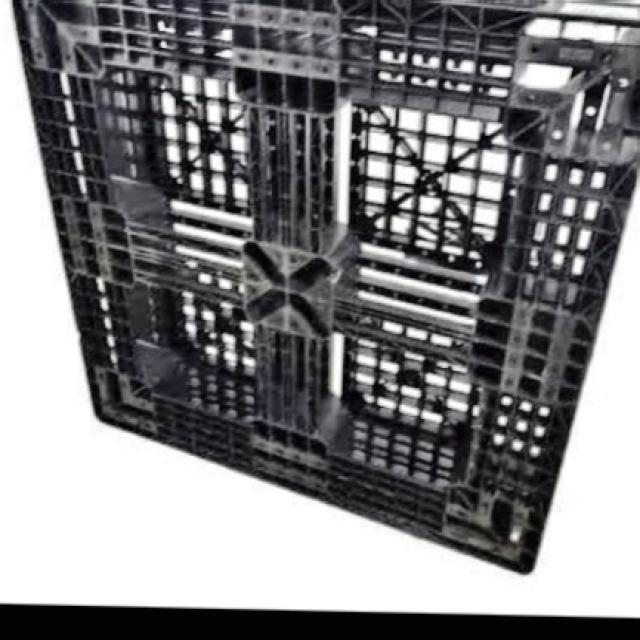non-igps: (9, 0, 640, 575)
